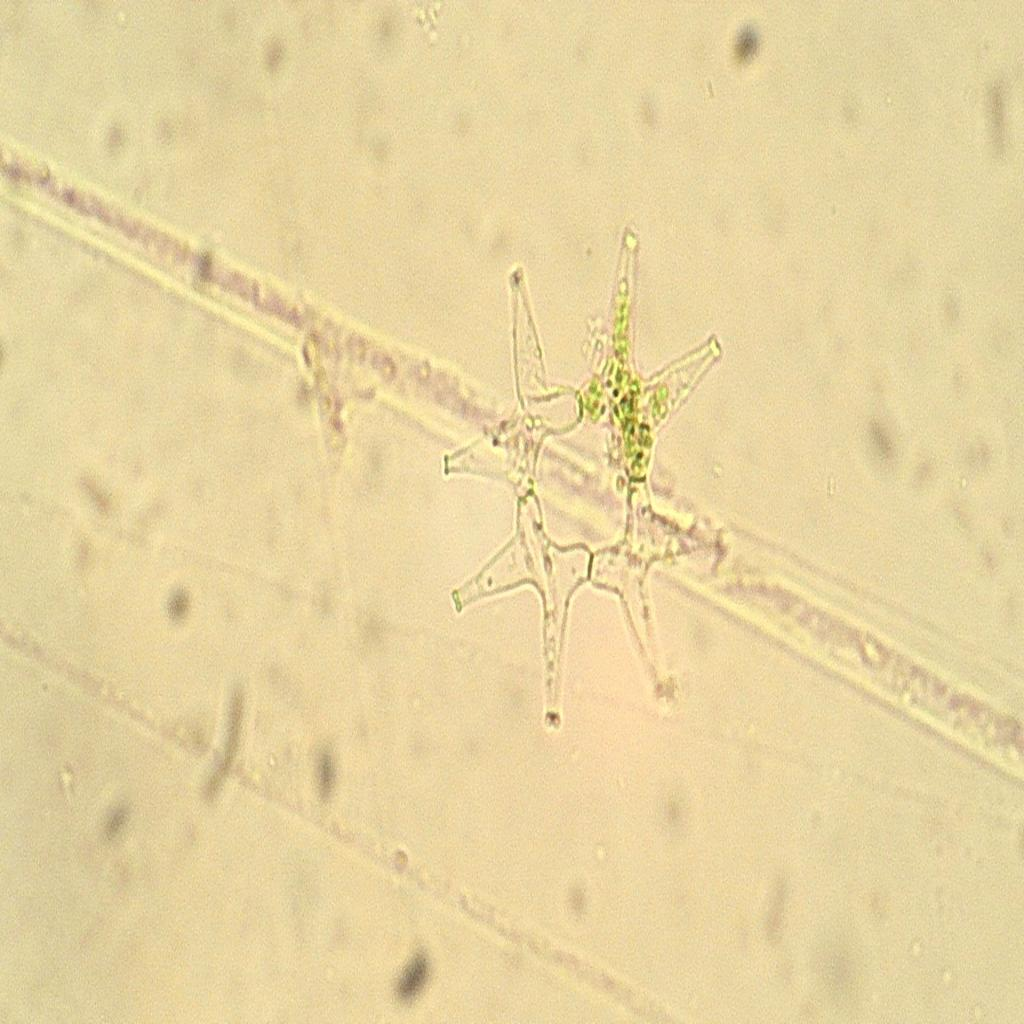Pediastrum_75TH: (422, 206, 756, 766)
